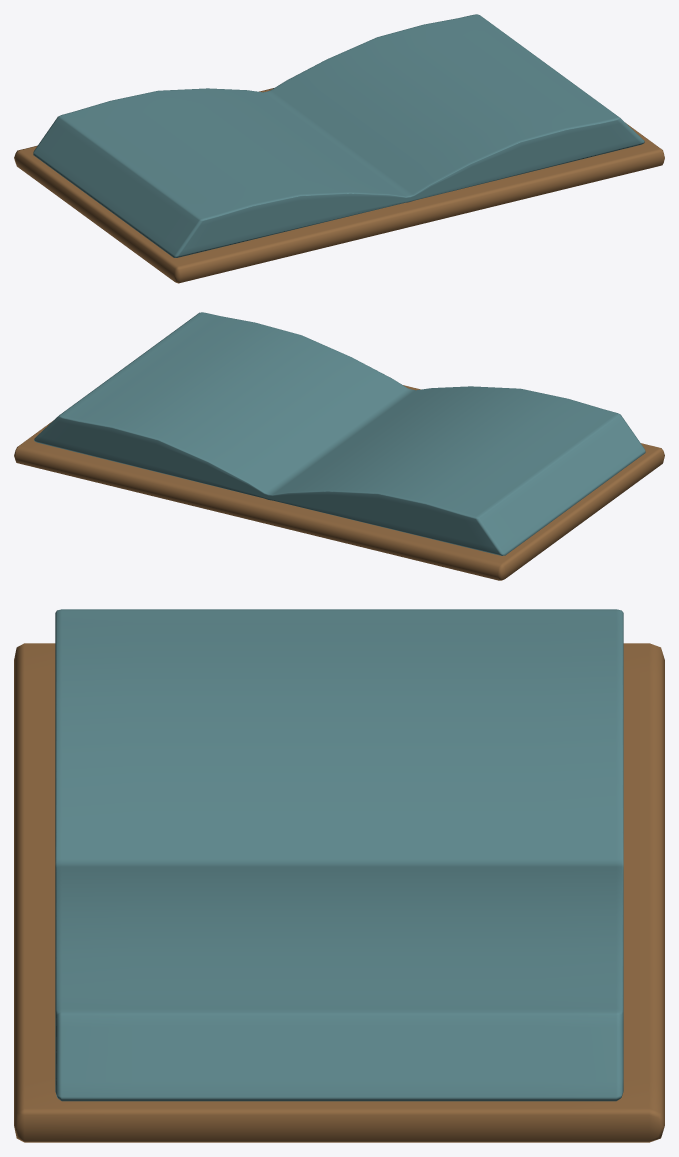
The model's file is BOOK.fbx.
3 views of the same model, one above another, from view 1: azimuth 30°, elevation 25°; view 2: azimuth 150°, elevation 25°; view 3: azimuth 270°, elevation 25° (orthographic). The views are drawn at different scales.
Parts seen in each view (by area): view 1: polySurface2; view 2: polySurface2; view 3: polySurface2.
Boxes of the visible parts, x1,y1,x2,y2 form: polySurface2: [14, 14, 664, 283]; polySurface2: [14, 312, 664, 580]; polySurface2: [14, 609, 664, 1142].
Bounding box in the file's own units: 11.59 × 1.18 × 6.74.
